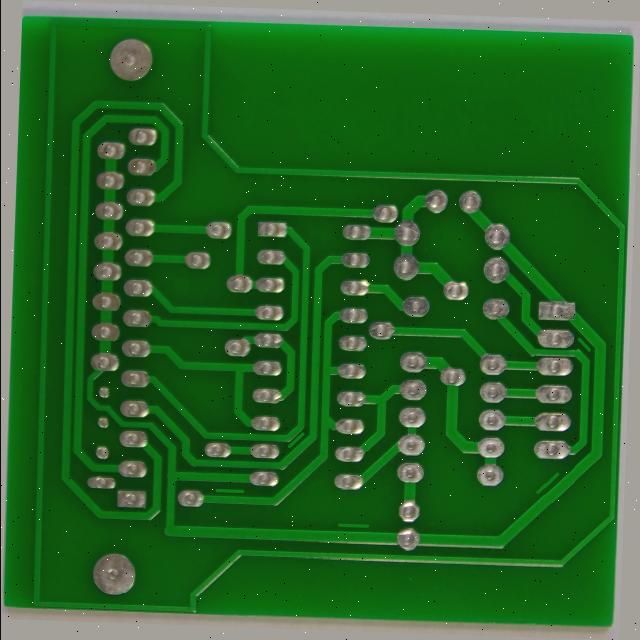spurious_copper: (544, 460, 574, 503), (342, 521, 382, 542), (212, 493, 253, 510), (289, 434, 313, 459), (581, 327, 605, 350)
